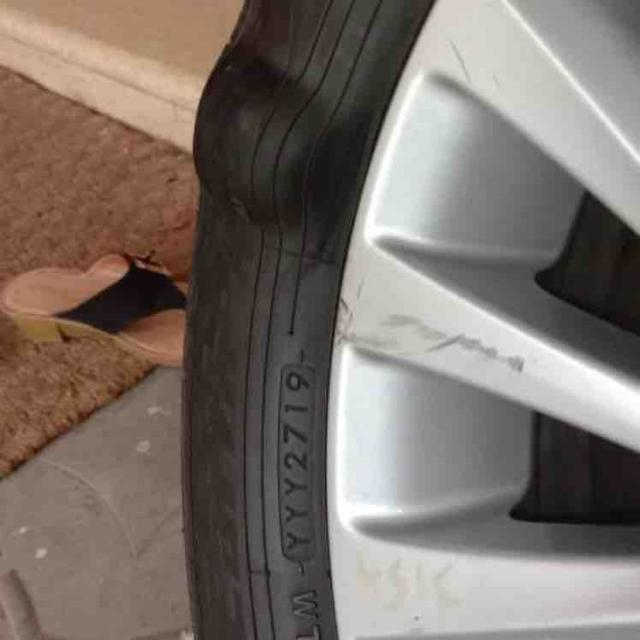Bulge: (179, 46, 372, 224)
